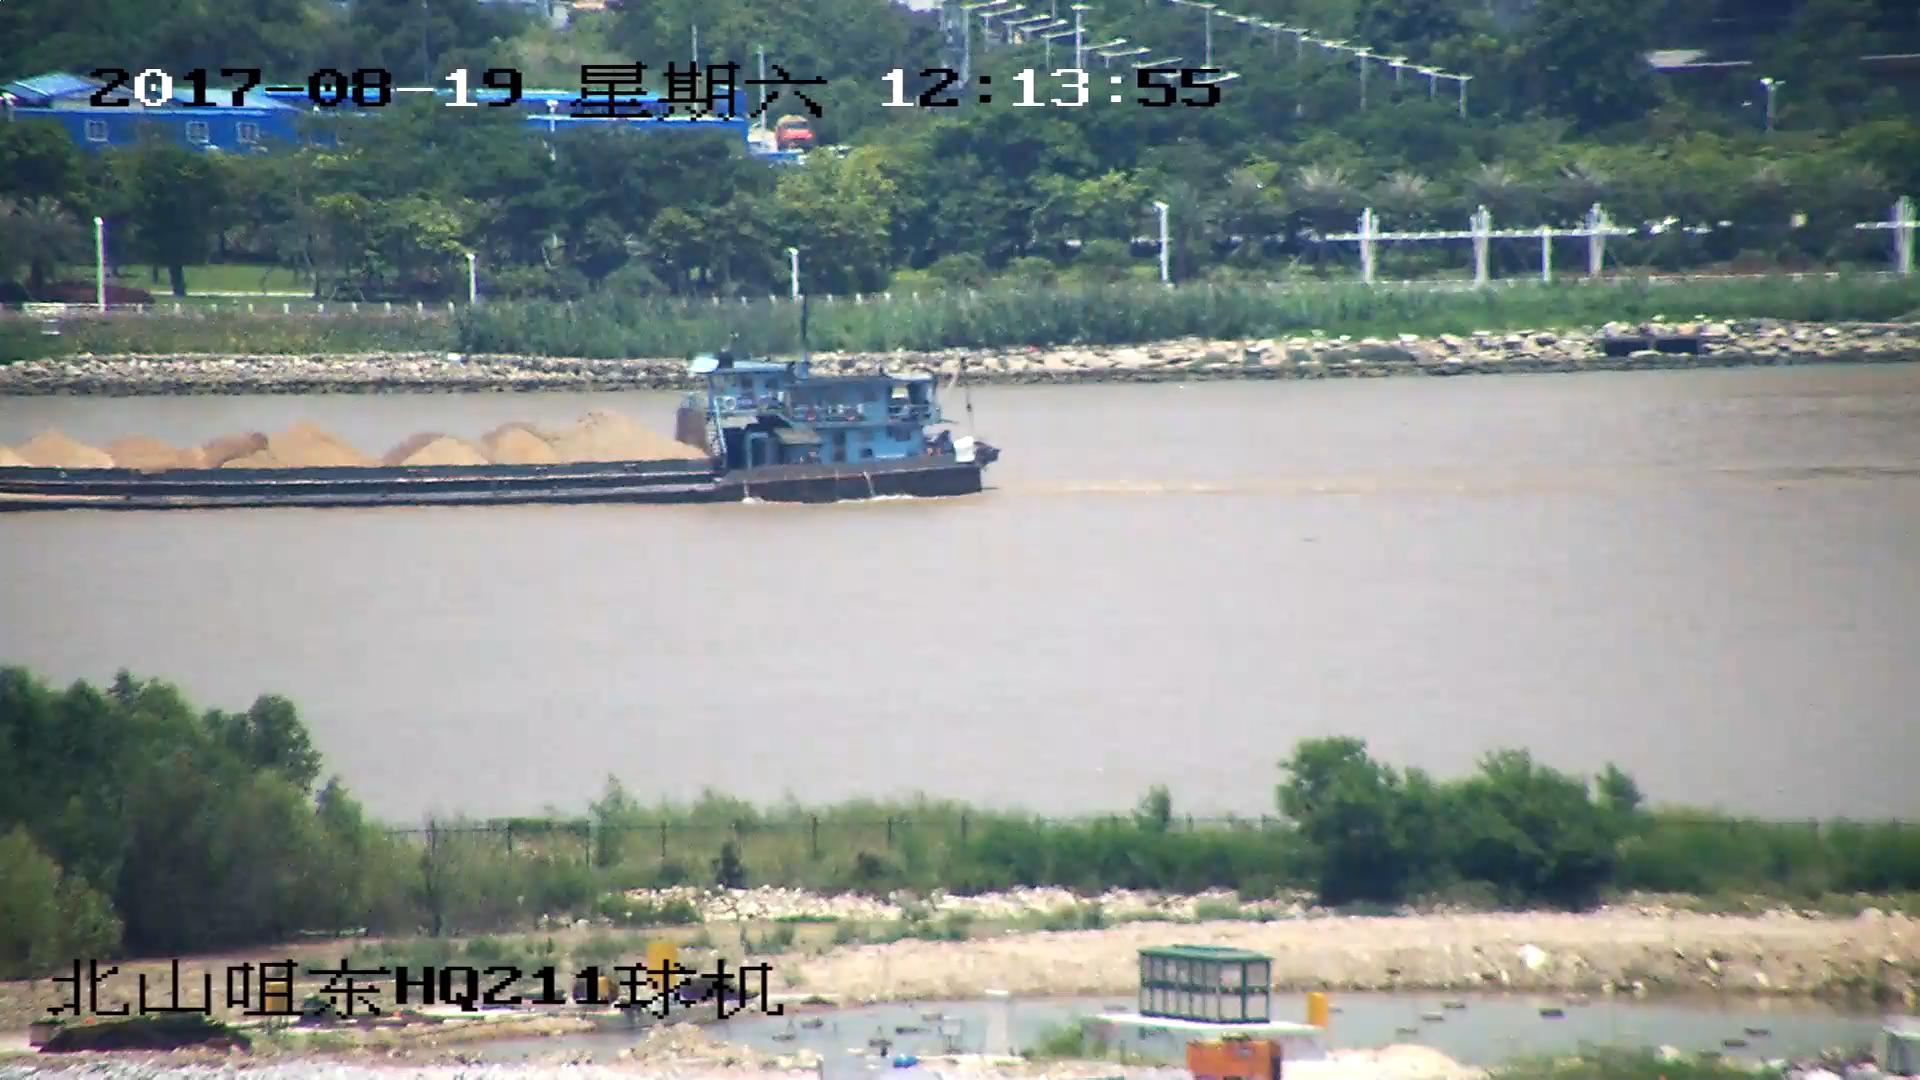ore carrier: (1, 336, 996, 513)
